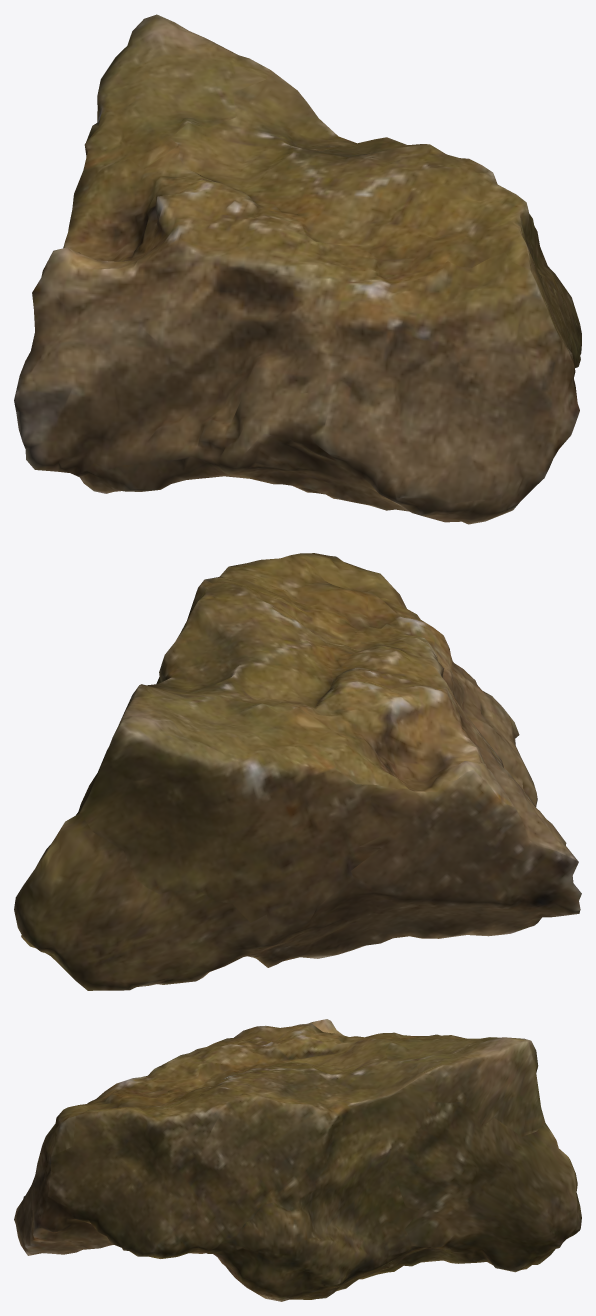
File: Scan_MossRock_F.fbx
3 renders of one model, top to bottom at view 1: azimuth 30°, elevation 25°; view 2: azimuth 150°, elevation 25°; view 3: azimuth 270°, elevation 25°, orthographic. The views are drawn at different scales.
Visible parts, largest first — view 1: Scan_MossRock_F_LOD0; view 2: Scan_MossRock_F_LOD0; view 3: Scan_MossRock_F_LOD0.
Boxes of the visible parts, x1,y1,x2,y2 form: Scan_MossRock_F_LOD0: (14, 14, 581, 524); Scan_MossRock_F_LOD0: (14, 553, 581, 990); Scan_MossRock_F_LOD0: (14, 1019, 581, 1301).
Size of what is drawn, in the model's own units: 2.13 by 1.26 by 2.76.
